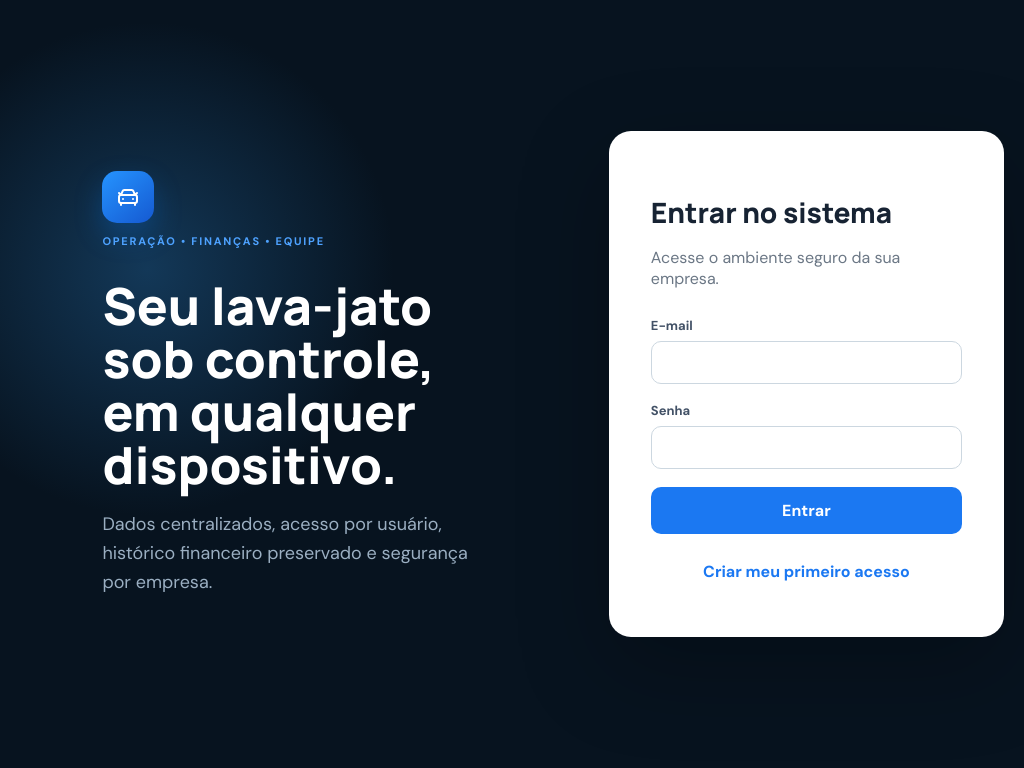
Scenario: autenticação › envia o formulário de login e apresenta erro sem quebrar a interface
This screenshot has width=1024, height=768.
In the field labelled "E-mail": (806, 362) [651,341,962,384], type "teste@empresa.com"
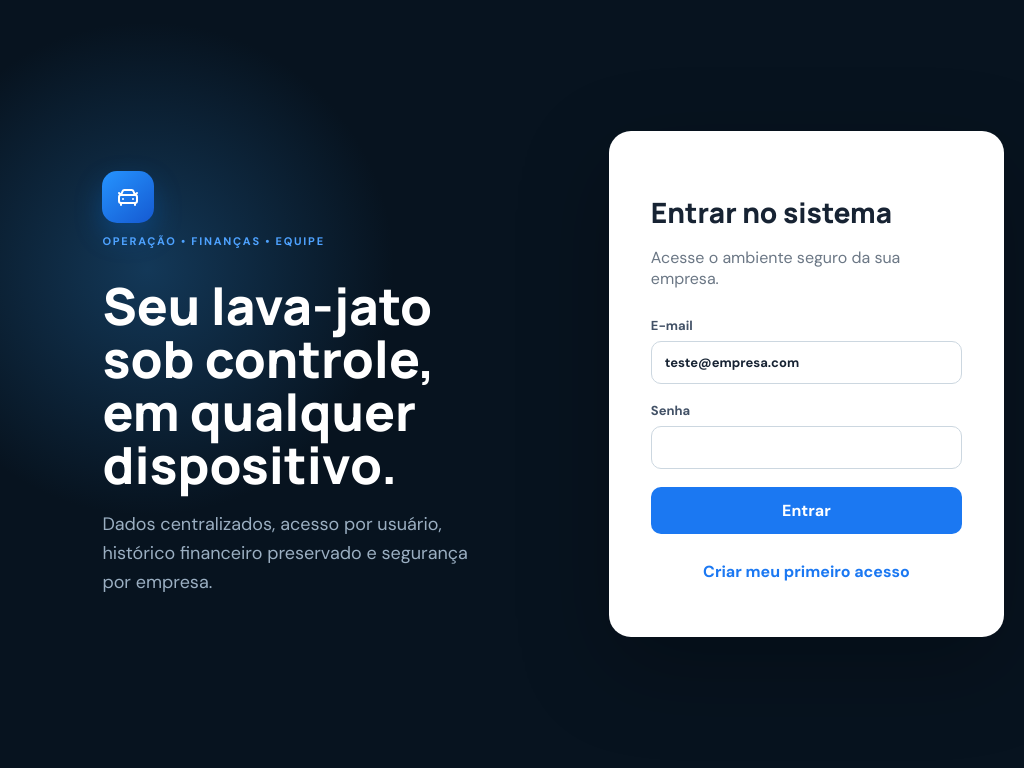
In the password field labelled "Senha": (806, 448) [651,426,962,469], type "12345678"
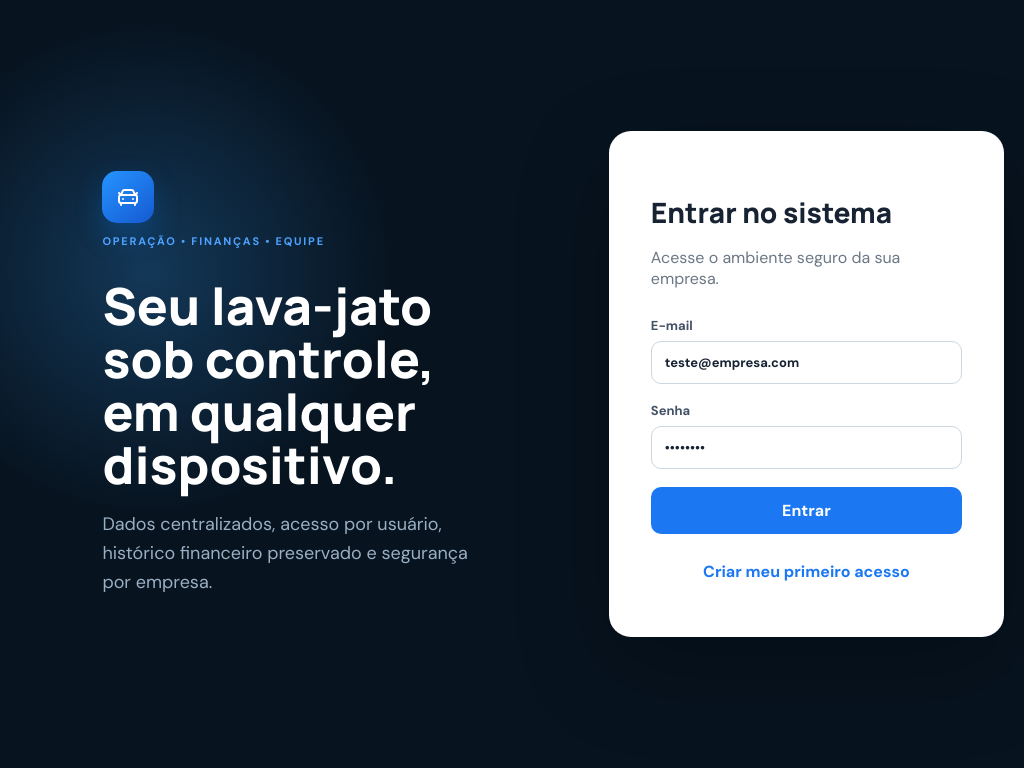
Click the button "Entrar": (806, 510) [651,487,962,534]
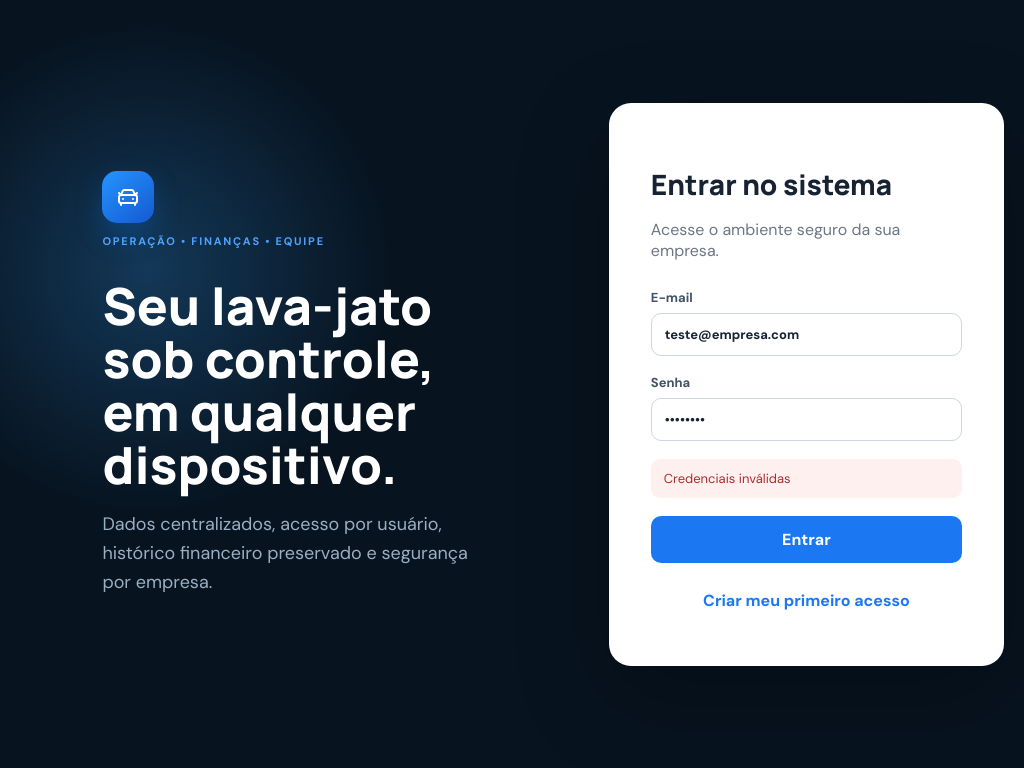
Expected: the text "Credenciais inválidas" is shown, [651,458,962,498]
